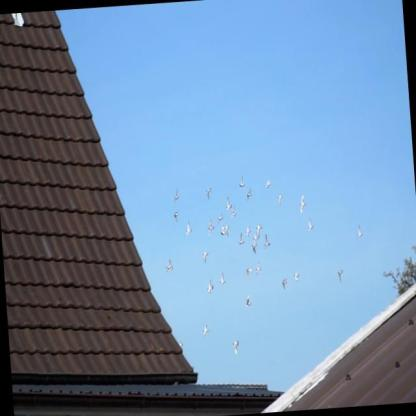bird: (298, 194, 307, 213), (206, 218, 215, 237), (200, 323, 211, 338), (306, 215, 315, 233), (254, 261, 263, 279), (183, 220, 192, 237), (165, 259, 174, 276), (231, 338, 240, 355), (205, 279, 215, 294), (262, 233, 271, 249), (172, 187, 180, 204), (256, 222, 264, 238), (237, 174, 245, 189), (206, 186, 214, 201), (337, 267, 345, 282), (281, 276, 289, 291), (244, 294, 252, 309), (356, 223, 363, 240), (218, 270, 225, 287), (172, 210, 181, 223), (245, 186, 252, 202), (229, 205, 237, 219), (237, 232, 245, 246), (225, 196, 232, 211), (245, 265, 252, 280), (244, 225, 252, 238), (251, 243, 259, 256), (278, 193, 284, 208), (224, 222, 230, 237), (219, 224, 225, 239), (217, 213, 225, 224), (201, 251, 209, 262), (292, 271, 300, 282), (252, 231, 258, 244), (177, 337, 184, 348), (265, 178, 271, 190)
